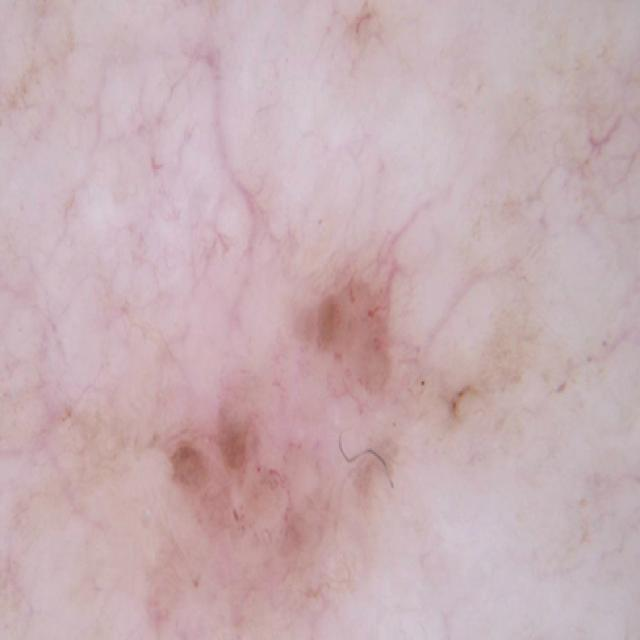Carcinoma: (168, 385, 325, 640), (313, 211, 433, 364)
